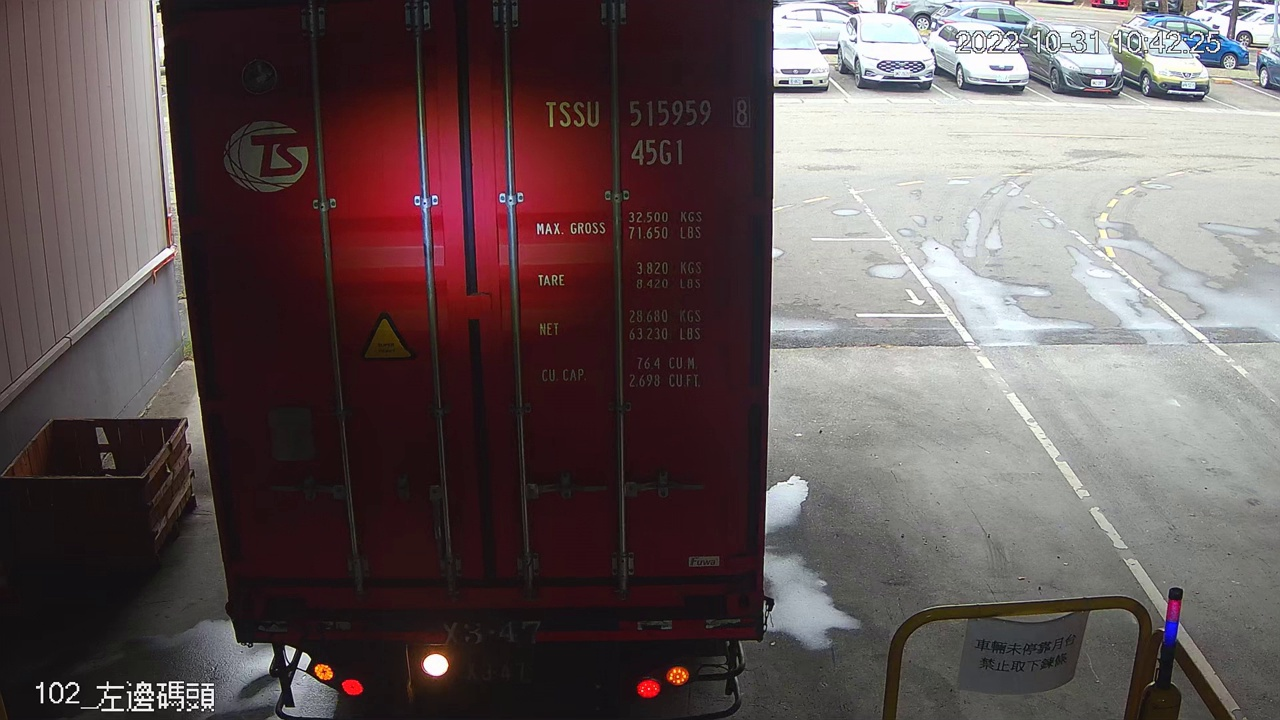container: (534, 87, 756, 175)
